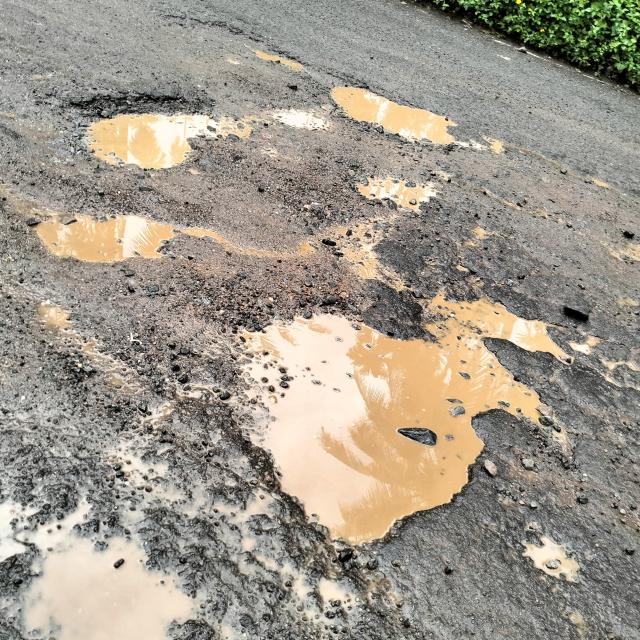pothole: (224, 262, 640, 554), (0, 449, 254, 640), (15, 177, 229, 281), (54, 92, 276, 186), (306, 76, 522, 171), (230, 528, 413, 637), (16, 299, 140, 398), (178, 10, 323, 84), (500, 510, 619, 594), (353, 165, 438, 244), (256, 98, 352, 154), (480, 182, 578, 225), (458, 215, 514, 262), (577, 166, 618, 208), (615, 232, 640, 280)
